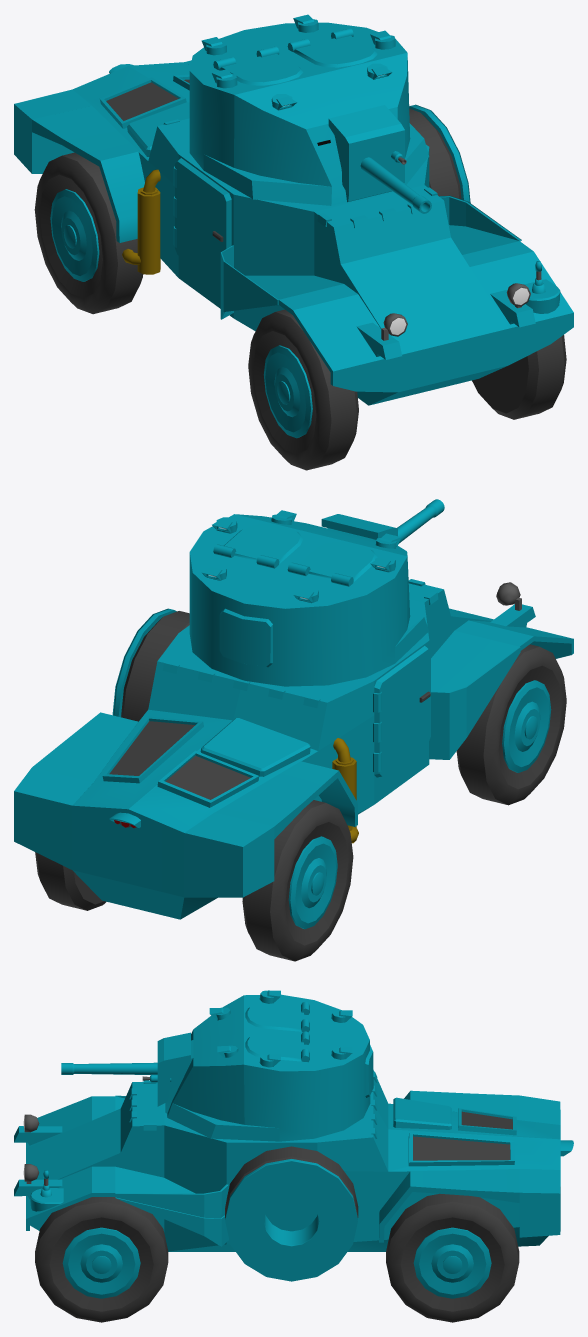
Rendered from Enemy_vehicle_STARTV2.fbx.
3 renders of one model, top to bottom at view 1: azimuth 30°, elevation 25°; view 2: azimuth 150°, elevation 25°; view 3: azimuth 270°, elevation 25°, orthographic. The views are drawn at different scales.
Visible parts, largest first — view 1: BODY, TURRET, FR, RR, FL; view 2: BODY, TURRET, RR, FR, RL; view 3: BODY, TURRET, RL, FL.
Boxes of the visible parts, x1,y1,x2,y2 form: BODY: [14, 60, 573, 405]; TURRET: [189, 14, 431, 213]; FR: [248, 309, 358, 470]; RR: [34, 152, 143, 314]; FL: [472, 335, 566, 419]; BODY: [14, 579, 573, 919]; TURRET: [189, 499, 444, 686]; RR: [242, 800, 353, 961]; FR: [456, 644, 566, 805]; RL: [35, 852, 106, 910]; BODY: [14, 1070, 573, 1281]; TURRET: [61, 990, 373, 1141]; RL: [386, 1193, 519, 1322]; FL: [35, 1197, 168, 1322].
Bounding box in the file's own units: 1980 × 2172 × 4389.
